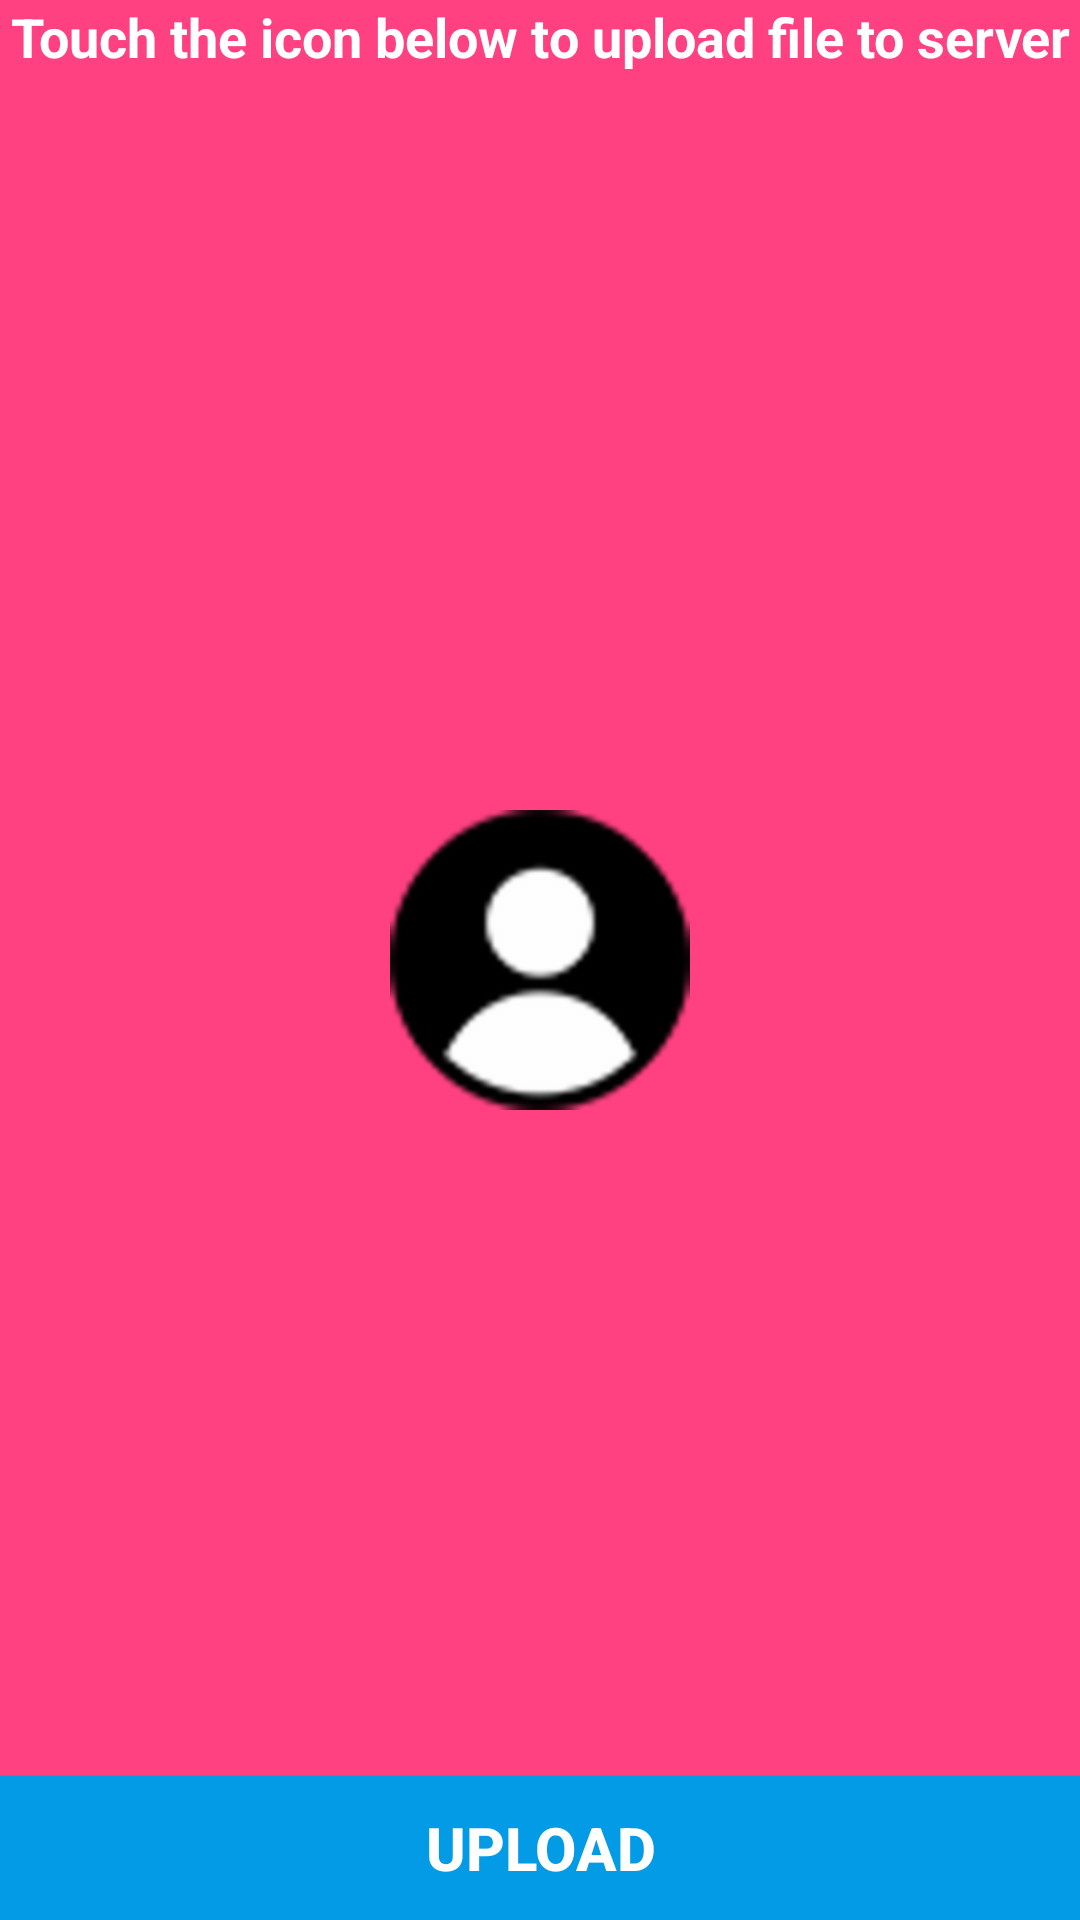

Screen size 1080px x 1920px. Icon name, then its center in pixels as [x,y]:
user: [540,960]
